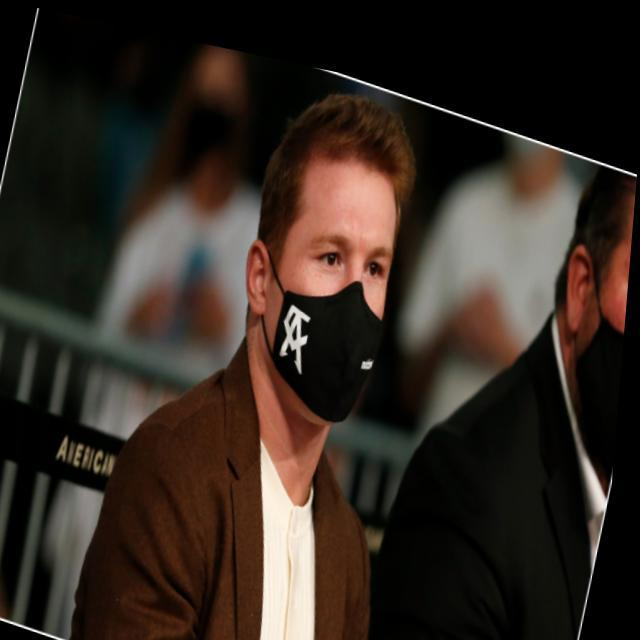Nonhelmet: (239, 90, 419, 424)
